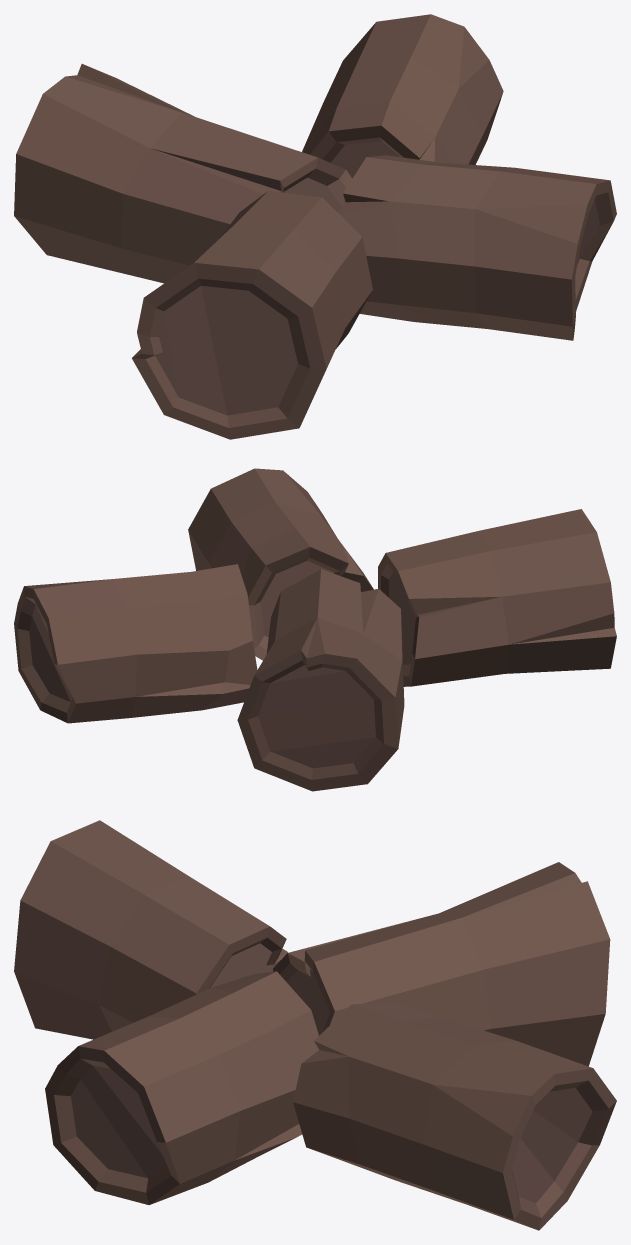
File: Bonfire.glb
3 views of the same model, one above another, from view 1: azimuth 30°, elevation 25°; view 2: azimuth 150°, elevation 25°; view 3: azimuth 270°, elevation 25° (orthographic). The views are drawn at different scales.
Visible parts, largest first — view 1: Bonfire; view 2: Bonfire; view 3: Bonfire.
Part boxes in pixels (left/top/right/bottom): Bonfire: left=14, top=14, right=616, bottom=439; Bonfire: left=14, top=468, right=616, bottom=791; Bonfire: left=14, top=820, right=616, bottom=1230.
Size of the model in its own units: 2.18 by 0.6757 by 1.98.
